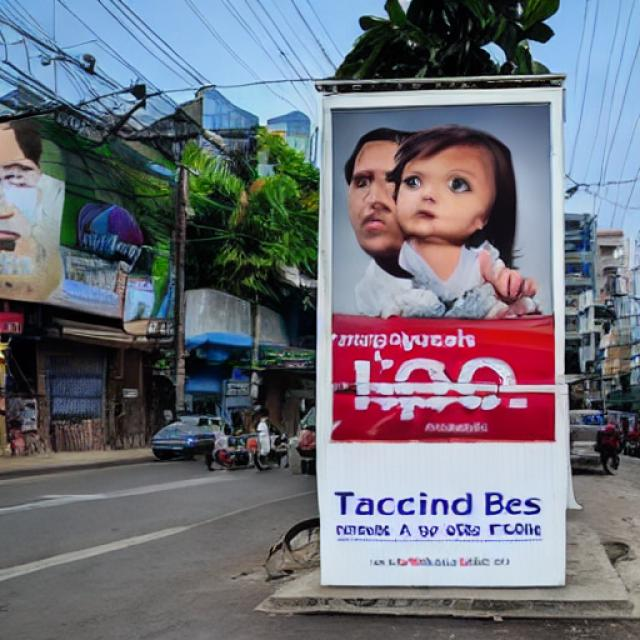Billboard: (320, 80, 566, 591)
